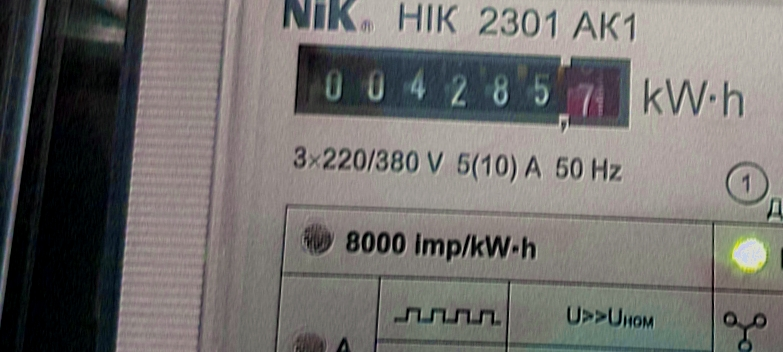0: (362, 65, 386, 103), (320, 64, 343, 101)
2: (446, 70, 467, 107)
4: (406, 64, 426, 100)
5: (527, 69, 550, 106)
7: (572, 79, 593, 117)
8: (486, 70, 510, 108)
screen: (276, 25, 646, 147)
